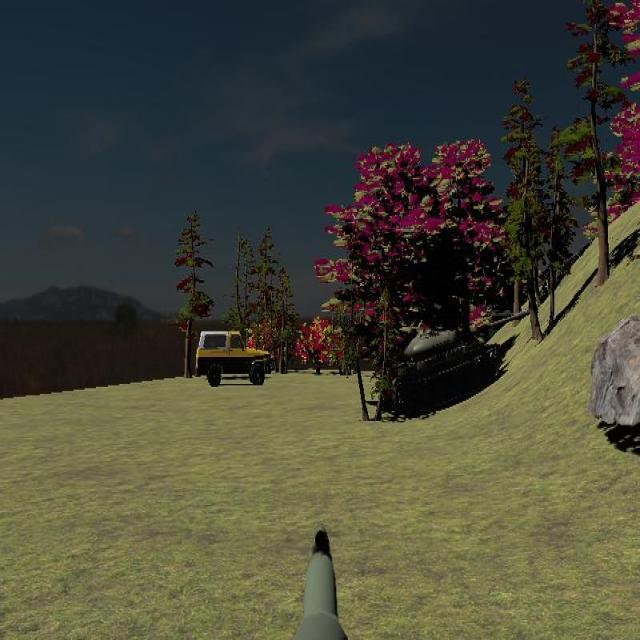Tank: (384, 306, 529, 415)
car: (196, 329, 271, 387)
